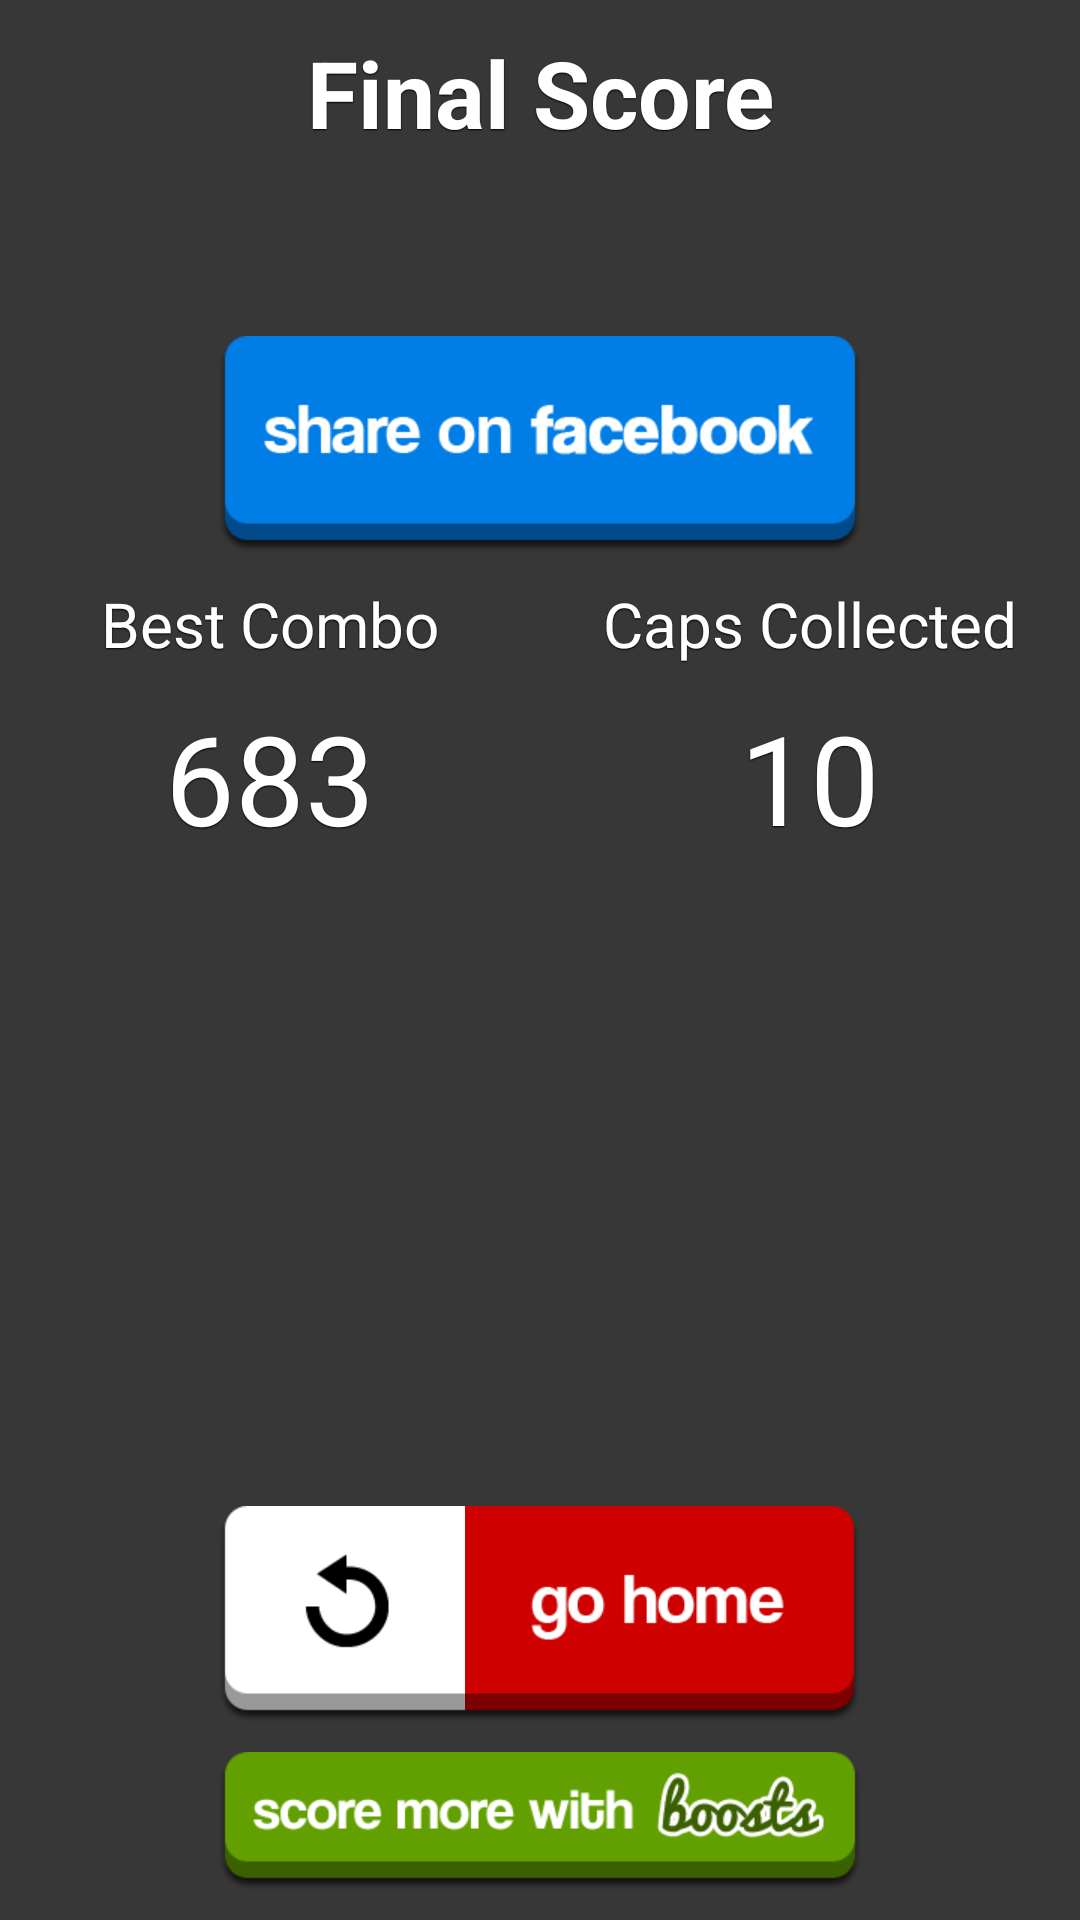

Point at icon controls on the screen. Image size 1080px×1920px, points as [x,y].
buttonrestart: [344,1610]
